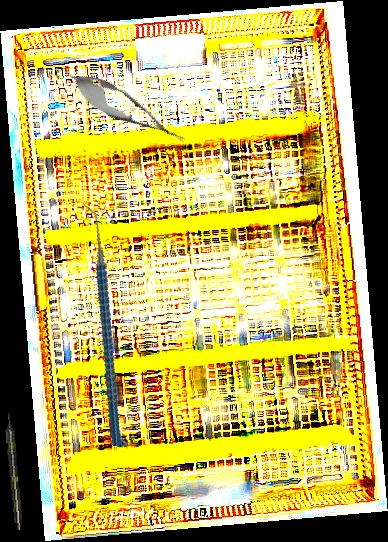Chopper: (25, 201, 176, 448)
Handpiece: (3, 412, 25, 531)
Micro Scissor: (62, 63, 194, 156)
